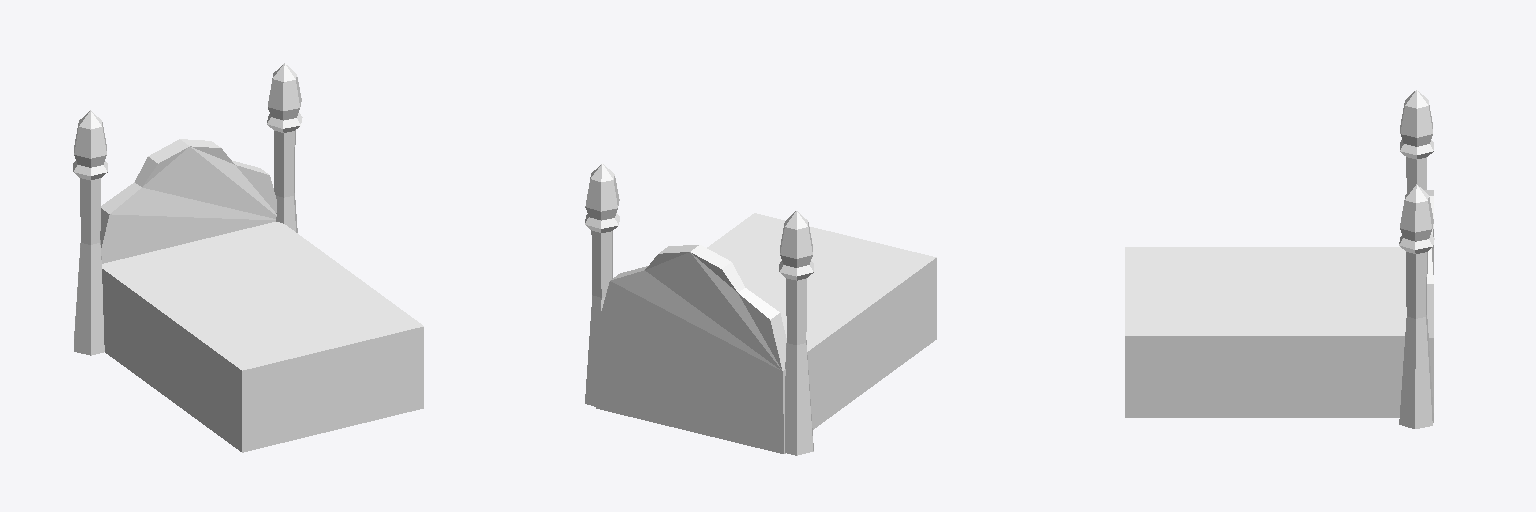
The model's file is bed.obj.
3 views of the same model, side by side, from view 1: azimuth 30°, elevation 25°; view 2: azimuth 150°, elevation 25°; view 3: azimuth 270°, elevation 25° (orthographic).
Parts seen in each view (by area): view 1: World_Expansion02_doodads_dalaran_dalaran_bed_02.m2_Geoset_000; view 2: World_Expansion02_doodads_dalaran_dalaran_bed_02.m2_Geoset_000; view 3: World_Expansion02_doodads_dalaran_dalaran_bed_02.m2_Geoset_000.
Boxes of the visible parts, x1,y1,x2,y2 form: World_Expansion02_doodads_dalaran_dalaran_bed_02.m2_Geoset_000: [73, 63, 423, 452]; World_Expansion02_doodads_dalaran_dalaran_bed_02.m2_Geoset_000: [585, 163, 936, 455]; World_Expansion02_doodads_dalaran_dalaran_bed_02.m2_Geoset_000: [1125, 90, 1434, 428].
Bounding box in the file's own units: 2.5 × 2.49 × 2.93.